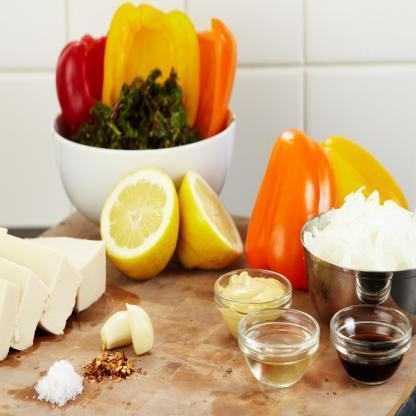lemon: (101, 166, 180, 280), (178, 171, 242, 270)
